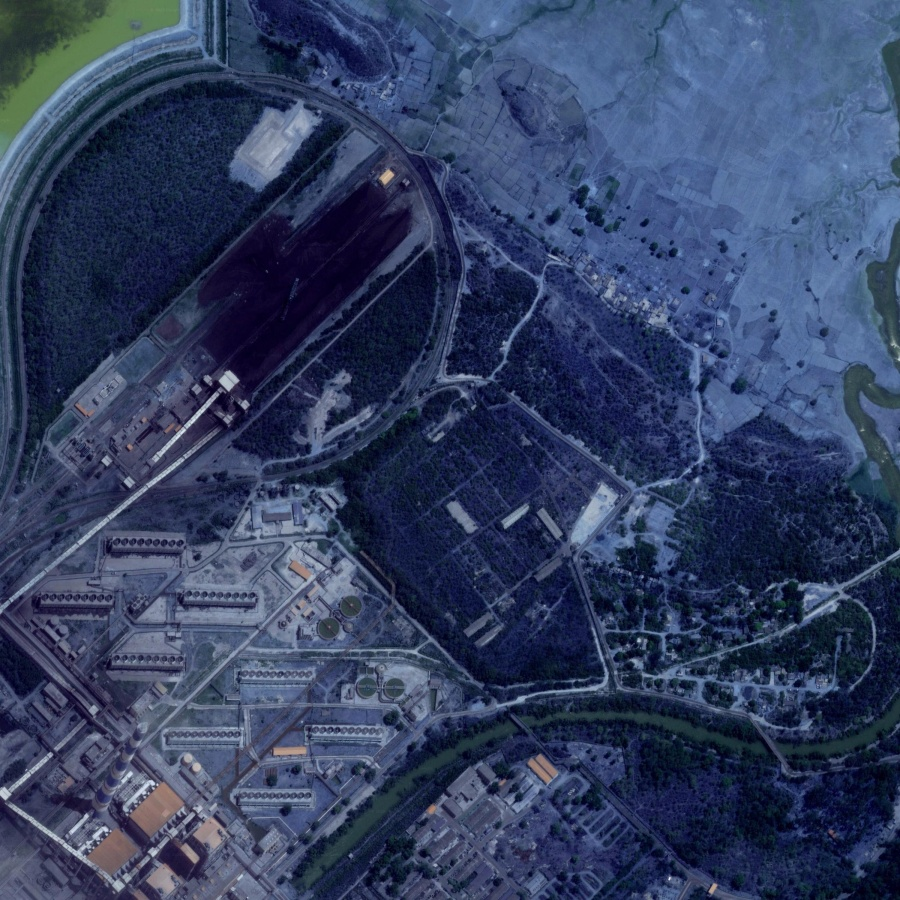PowerPlant: (152, 149, 430, 430)
